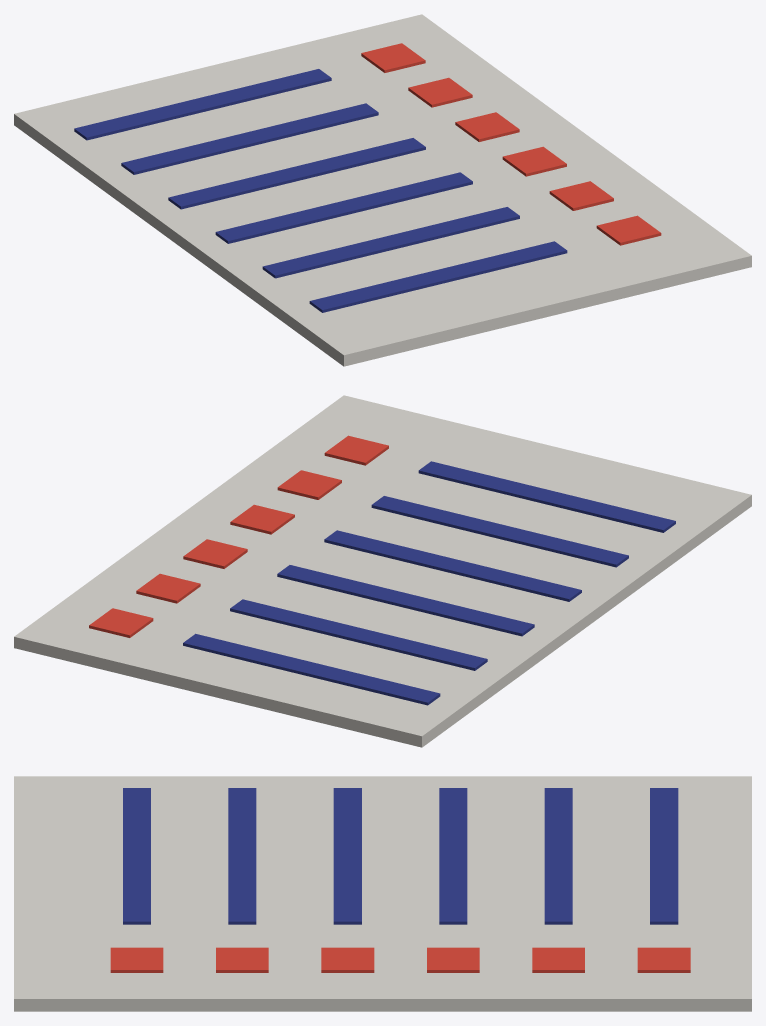
File: sleepers_list.glb
3 views of the same model, one above another, from view 1: azimuth 30°, elevation 25°; view 2: azimuth 150°, elevation 25°; view 3: azimuth 270°, elevation 25° (orthographic). The views are drawn at different scales.
Parts seen in each view (by area): view 1: paper_photo_white, line_ink_blue (×6), tick_logo_red (×6); view 2: paper_photo_white, line_ink_blue (×6), tick_logo_red (×6); view 3: paper_photo_white, line_ink_blue (×6), tick_logo_red (×6).
Part boxes in pixels (left/top/right/bottom): paper_photo_white: left=14, top=14, right=751, bottom=366; line_ink_blue (×6): left=74, top=69, right=567, bottom=312; tick_logo_red (×6): left=361, top=43, right=661, bottom=245; paper_photo_white: left=14, top=395, right=751, bottom=747; line_ink_blue (×6): left=183, top=461, right=675, bottom=705; tick_logo_red (×6): left=89, top=435, right=388, bottom=637; paper_photo_white: left=14, top=776, right=751, bottom=1011; line_ink_blue (×6): left=123, top=788, right=678, bottom=924; tick_logo_red (×6): left=110, top=947, right=690, bottom=972.
Size of the model in its own units: 0.15 by 0.005 by 0.21.
